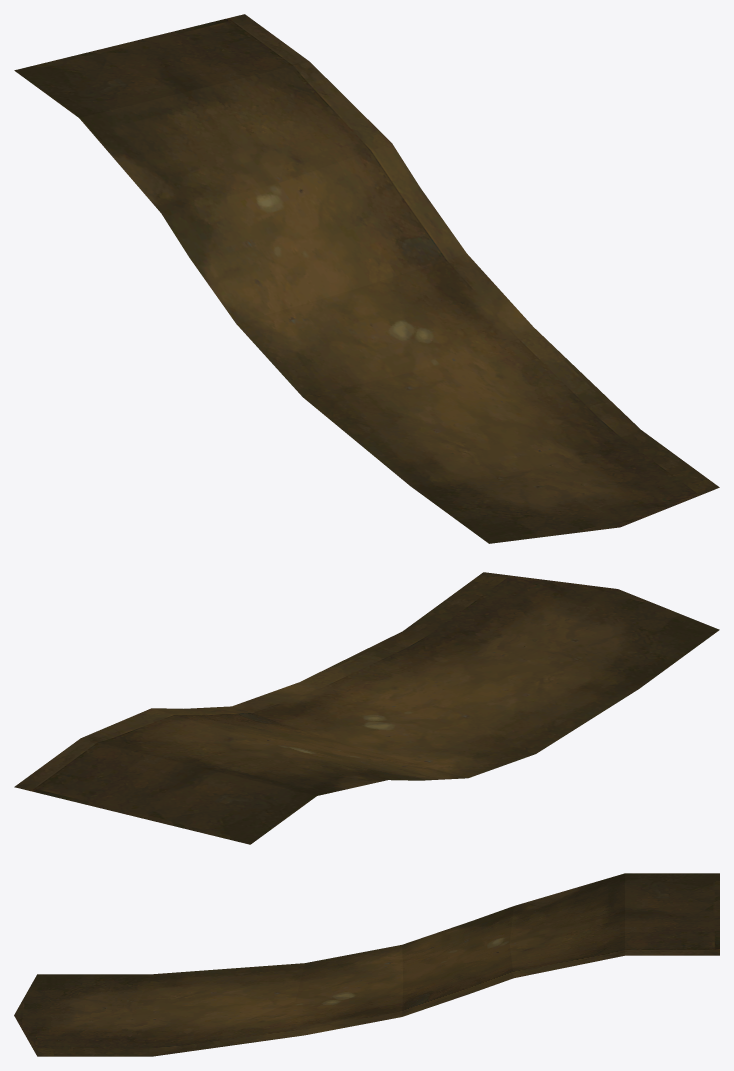
File: tundra_ramproad_large01.fbx
3 renders of one model, top to bottom at view 1: azimuth 30°, elevation 25°; view 2: azimuth 150°, elevation 25°; view 3: azimuth 270°, elevation 25°, orthographic. The views are drawn at different scales.
Parts seen in each view (by area): view 1: obj0.121; view 2: obj0.121; view 3: obj0.121.
Part boxes in pixels (bbox=[...]): obj0.121: bbox=[14, 14, 719, 543]; obj0.121: bbox=[14, 572, 719, 844]; obj0.121: bbox=[14, 873, 719, 1056].
Bounding box in the file's own units: 7.44 × 3.98 × 26.01.
